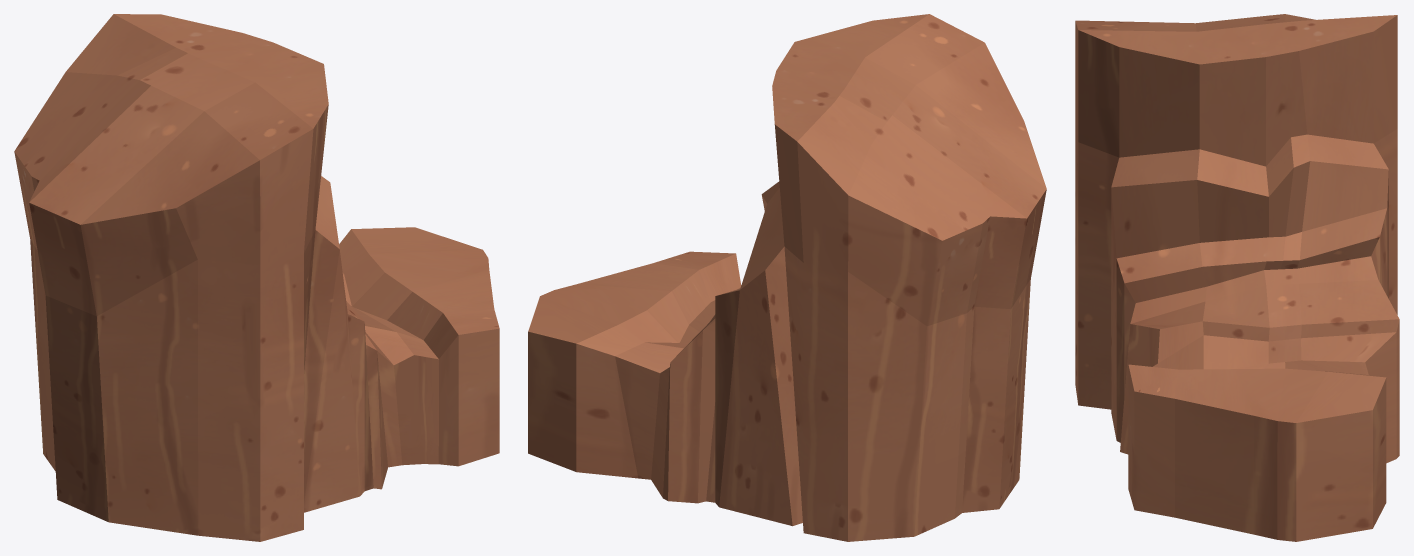
The model's file is big_rock03.fbx.
The picture shows the model from 3 angles, left to right: view 1: azimuth 30°, elevation 25°; view 2: azimuth 150°, elevation 25°; view 3: azimuth 270°, elevation 25°; orthographic projection. The views are drawn at different scales.
Parts seen in each view (by area): view 1: big_rock03; view 2: big_rock03; view 3: big_rock03.
Boxes of the visible parts, left/top/right/bottom form: big_rock03: left=14, top=14, right=499, bottom=541; big_rock03: left=528, top=14, right=1046, bottom=541; big_rock03: left=1075, top=14, right=1399, bottom=541.
Size of the model in its own units: 2.41 by 1.49 by 1.93.
